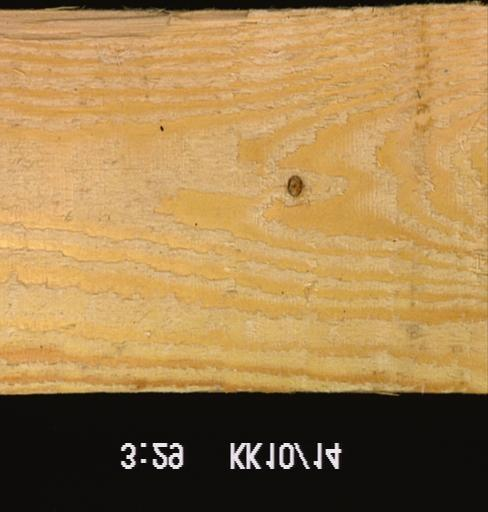dry_knot: (283, 171, 304, 201)
wave: (53, 0, 259, 33)
